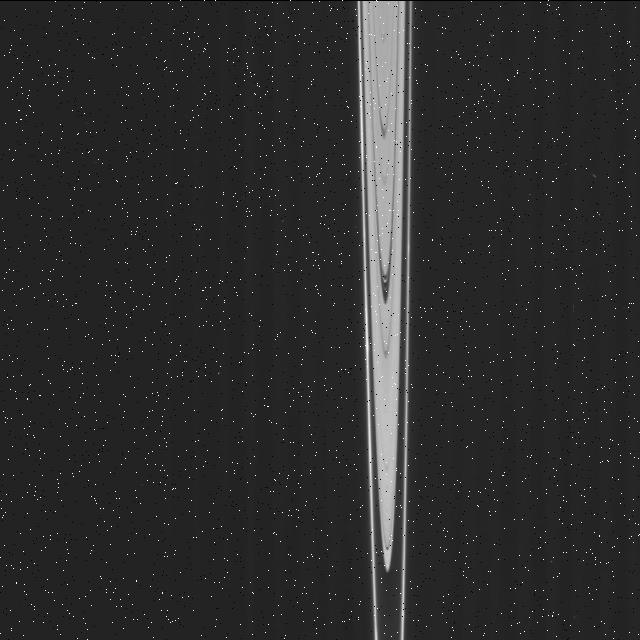Saturn: (354, 0, 414, 640)
